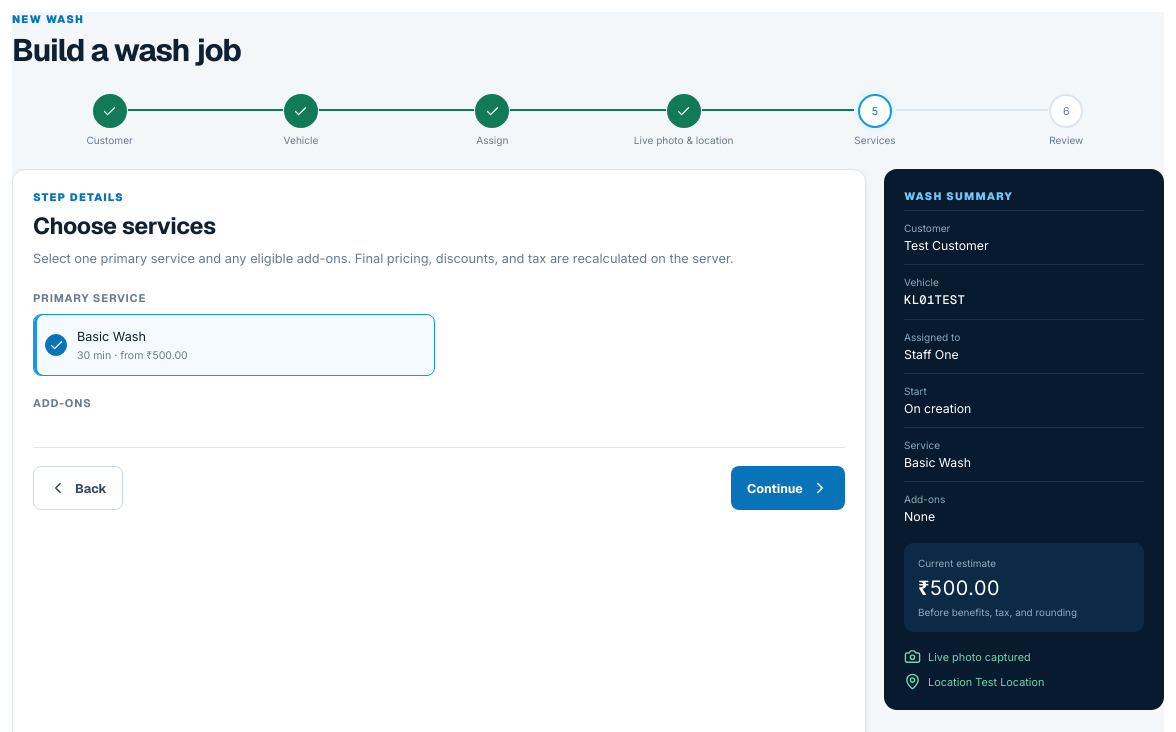
New Wash wizard — navigation › Services Continue opens Review directly
The image size is (1176, 732).
Expected: the heading "Choose services" is shown, x1=33 y1=211 x2=216 y2=241
Click the button "Continue": coordinates (788, 488) x1=731 y1=466 x2=845 y2=510
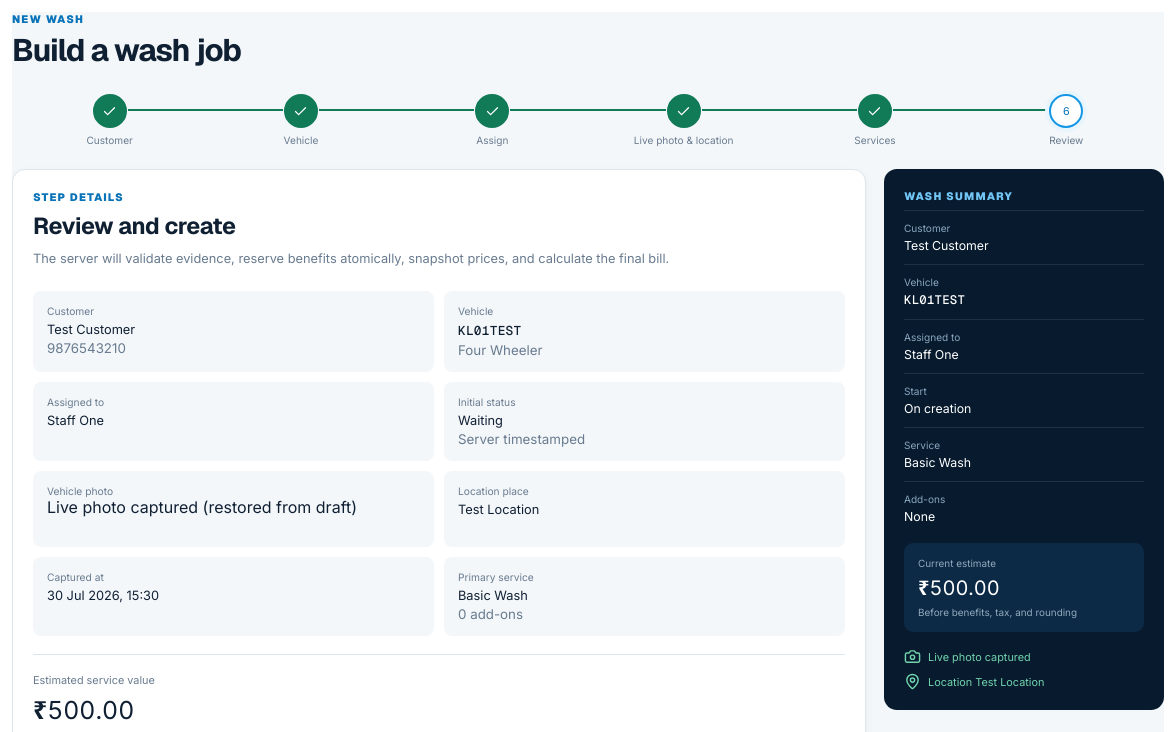
Expected: the heading "Review and create" is shown, x1=33 y1=211 x2=236 y2=241
